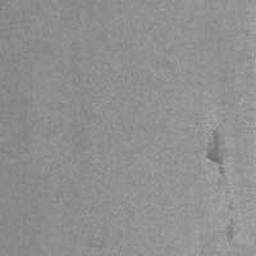Inclusion: (205, 124, 239, 242)
